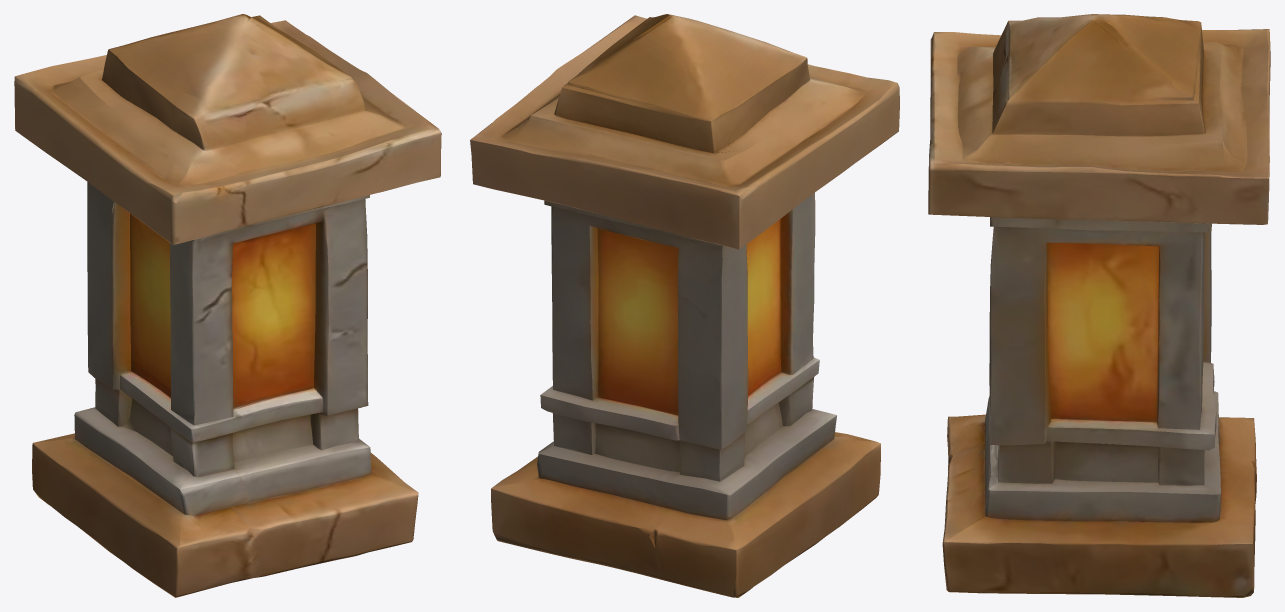
The model's file is m2RuinLanternPillar.glb.
3 views of the same model, side by side, from view 1: azimuth 30°, elevation 25°; view 2: azimuth 150°, elevation 25°; view 3: azimuth 270°, elevation 25° (orthographic). The views are drawn at different scales.
Visible parts, largest first — view 1: model; view 2: model; view 3: model.
Boxes of the visible parts, x1,y1,x2,y2 form: model: (14, 14, 441, 597); model: (470, 14, 899, 597); model: (928, 14, 1270, 597).
Size of the model in its own units: 1.09 by 1.9 by 1.12.
Materials: 1 (1 with a texture image).
